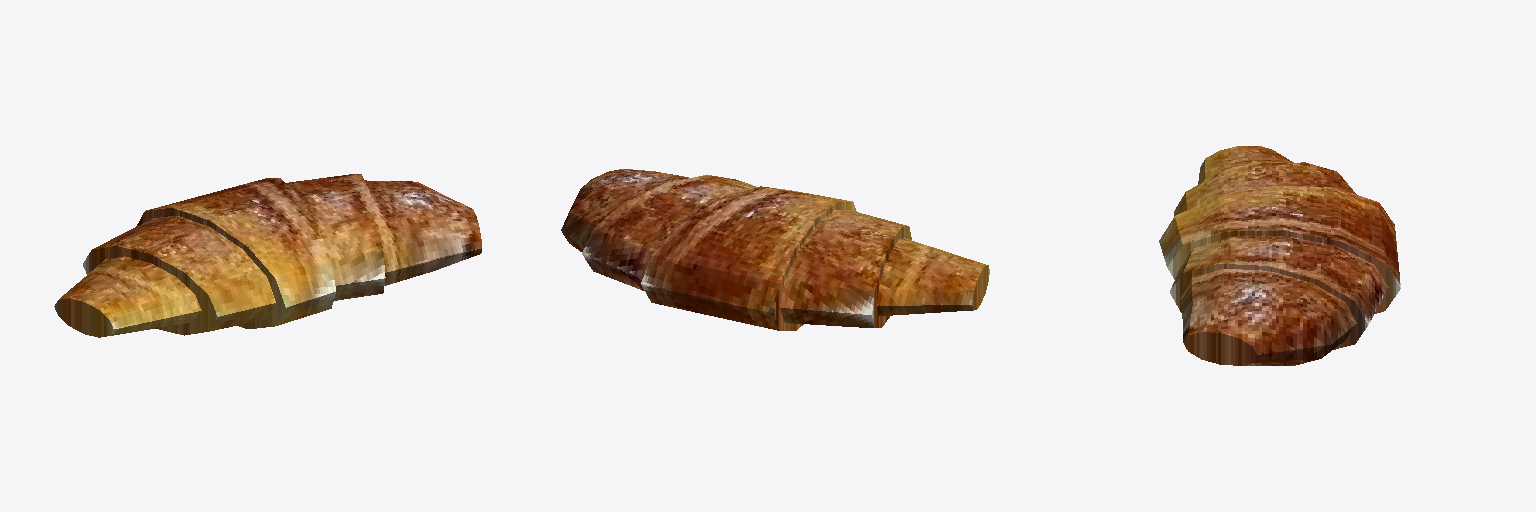
3 views of the same model, side by side, from view 1: azimuth 30°, elevation 25°; view 2: azimuth 150°, elevation 25°; view 3: azimuth 270°, elevation 25° (orthographic).
Visible parts, largest first — view 1: Mesh1 Groupe_1_1 Model; view 2: Mesh1 Groupe_1_1 Model; view 3: Mesh1 Groupe_1_1 Model.
Boxes of the visible parts, x1=… form: Mesh1 Groupe_1_1 Model: x1=54, y1=174, x2=481, y2=337; Mesh1 Groupe_1_1 Model: x1=561, y1=169, x2=989, y2=330; Mesh1 Groupe_1_1 Model: x1=1159, y1=146, x2=1400, y2=365.
Bounding box in the file's own units: 11.07 × 2.48 × 5.72.
Materials: 1 (1 with a texture image).